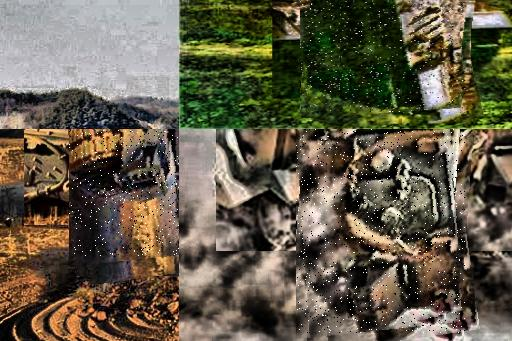tanks: (304, 130, 466, 334), (302, 1, 469, 113), (70, 130, 180, 207)
